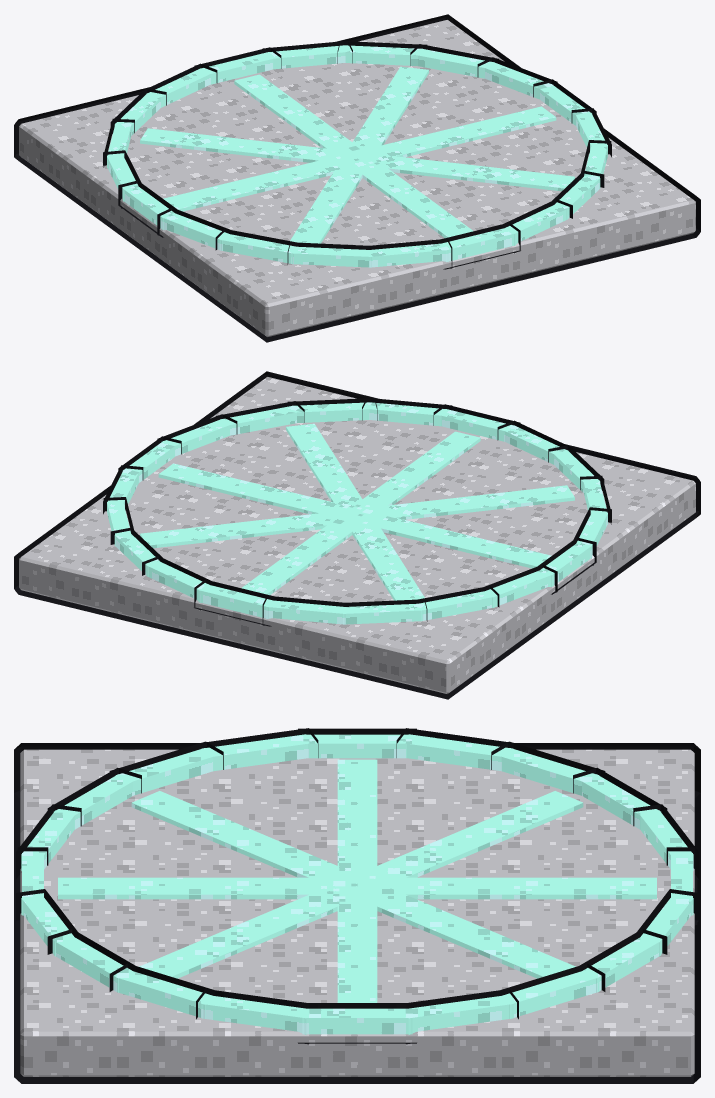
Rendered from build_spawn_pad.glb.
3 renders of one model, top to bottom at view 1: azimuth 30°, elevation 25°; view 2: azimuth 150°, elevation 25°; view 3: azimuth 270°, elevation 25°, orthographic. The views are drawn at different scales.
Visible parts, largest first — view 1: model; view 2: model; view 3: model.
Boxes of the visible parts, <box> form: model: <box>14,14,700,342</box>; model: <box>14,371,700,699</box>; model: <box>14,728,700,1083</box>.
Bounding box in the file's own units: 2.75 × 0.3071 × 2.75.
Materials: 3 (2 with a texture image).
